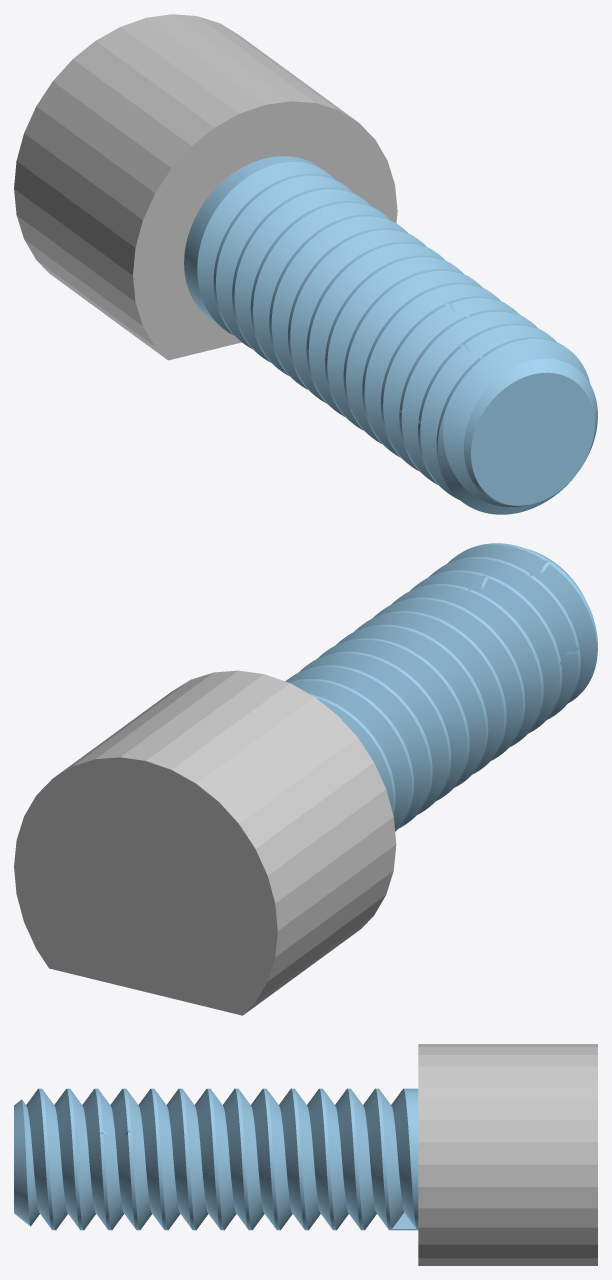
Rendered from bolt3.obj.
The picture shows the model from 3 angles, top to bottom: view 1: azimuth 30°, elevation 25°; view 2: azimuth 150°, elevation 25°; view 3: azimuth 270°, elevation 25°; orthographic projection. The views are drawn at different scales.
Parts seen in each view (by area): view 1: Cylinder_Cylinder.001, mesh4, mesh8, mesh3, mesh7; view 2: Cylinder_Cylinder.001, mesh5, mesh3; view 3: Cylinder_Cylinder.001, mesh4, mesh5, mesh3, mesh7.
Part boxes in pixels (left/top/right/bottom): Cylinder_Cylinder.001: left=14, top=14, right=397, bottom=360; mesh4: left=197, top=162, right=589, bottom=506; mesh8: left=471, top=372, right=594, bottom=505; mesh3: left=184, top=156, right=564, bottom=490; mesh7: left=437, top=358, right=597, bottom=514; Cylinder_Cylinder.001: left=14, top=670, right=396, bottom=1015; mesh5: left=285, top=545, right=596, bottom=830; mesh3: left=289, top=543, right=597, bottom=831; Cylinder_Cylinder.001: left=418, top=1044, right=597, bottom=1265; mesh4: left=26, top=1088, right=416, bottom=1229; mesh5: left=22, top=1090, right=403, bottom=1230; mesh3: left=39, top=1088, right=418, bottom=1230; mesh7: left=14, top=1099, right=30, bottom=1226.
Bounding box in the file's own units: 0.034 × 0.0285 × 0.086.
